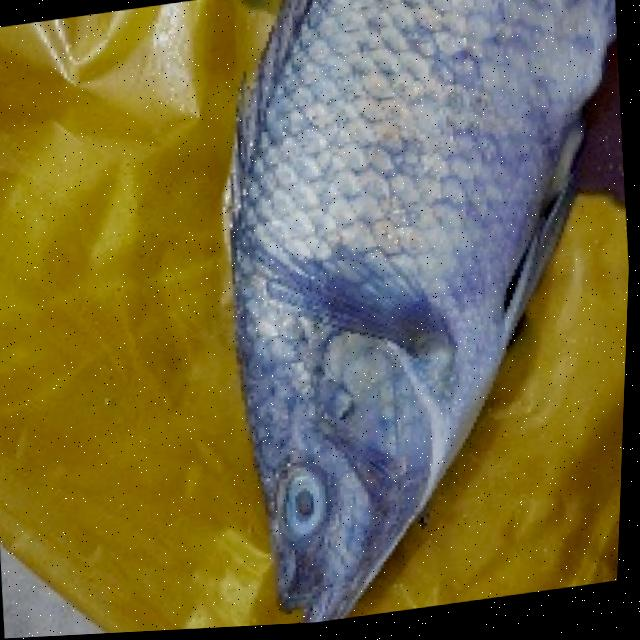Non-Fresh: (162, 0, 614, 633), (254, 448, 354, 570)
